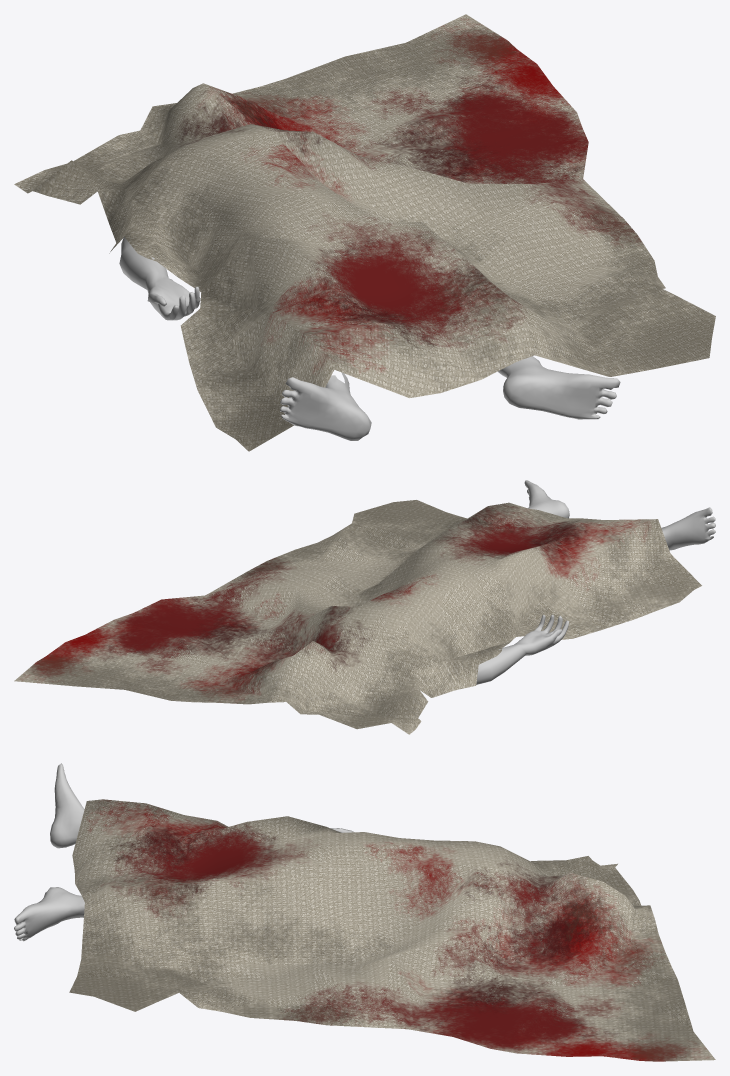
Rendered from deadbody_1.fbx.
3 renders of one model, top to bottom at view 1: azimuth 30°, elevation 25°; view 2: azimuth 150°, elevation 25°; view 3: azimuth 270°, elevation 25°, orthographic. The views are drawn at different scales.
Visible parts, largest first — view 1: polySurface2; view 2: polySurface2; view 3: polySurface2.
Boxes of the visible parts, x1,y1,x2,y2 form: polySurface2: (14, 14, 715, 451); polySurface2: (14, 480, 715, 734); polySurface2: (14, 763, 715, 1061).
Size of the model in its own units: 168 by 25.99 by 213.
